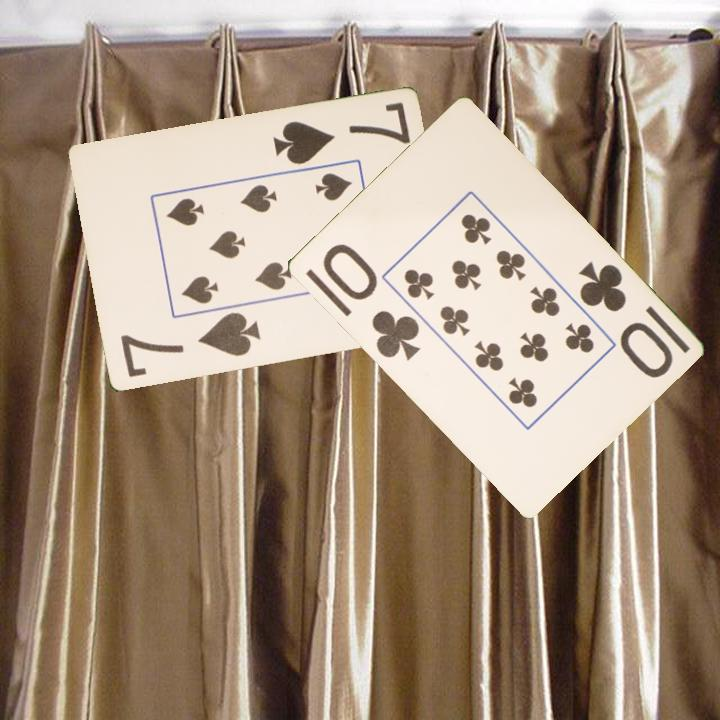10c: (318, 239, 423, 364), (574, 257, 675, 381)
7s: (116, 309, 264, 381), (268, 99, 413, 168)
